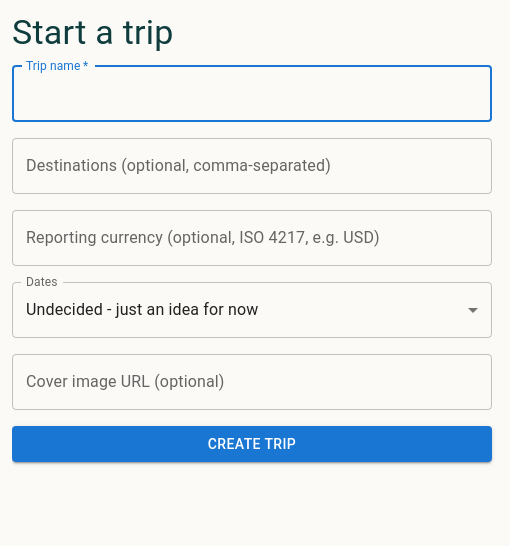
Test: CreateTripPage › shows a submit error when trip creation fails
Type "Will Fail" into the field with test id "trip-name-input" at (252, 94), box [12,66,492,122]
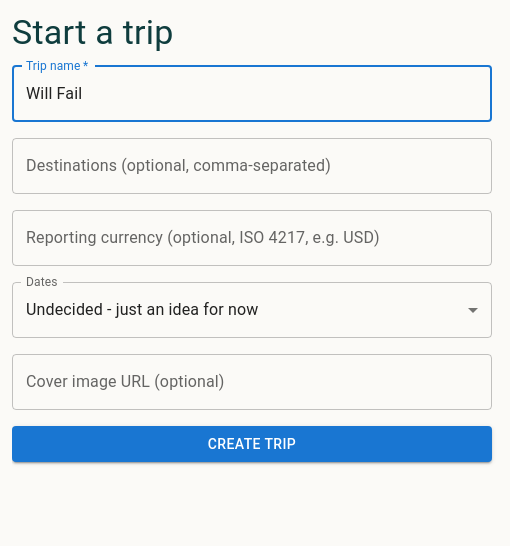
Click the button with test id "submit-create-trip" at (252, 444), box [12,426,492,462]
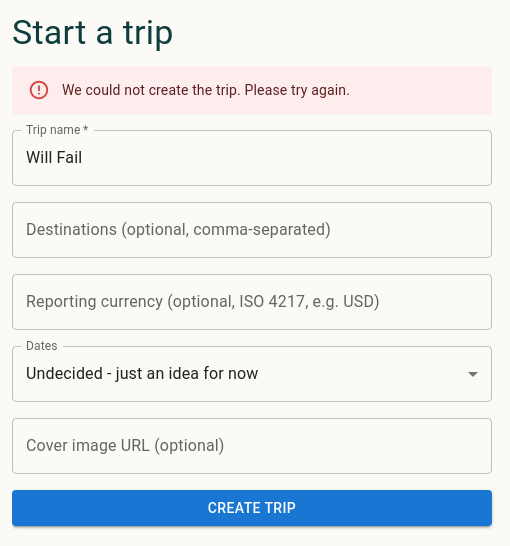
Expected: the text "We could not create the trip. Please try again." is shown, [62,82,350,98]
